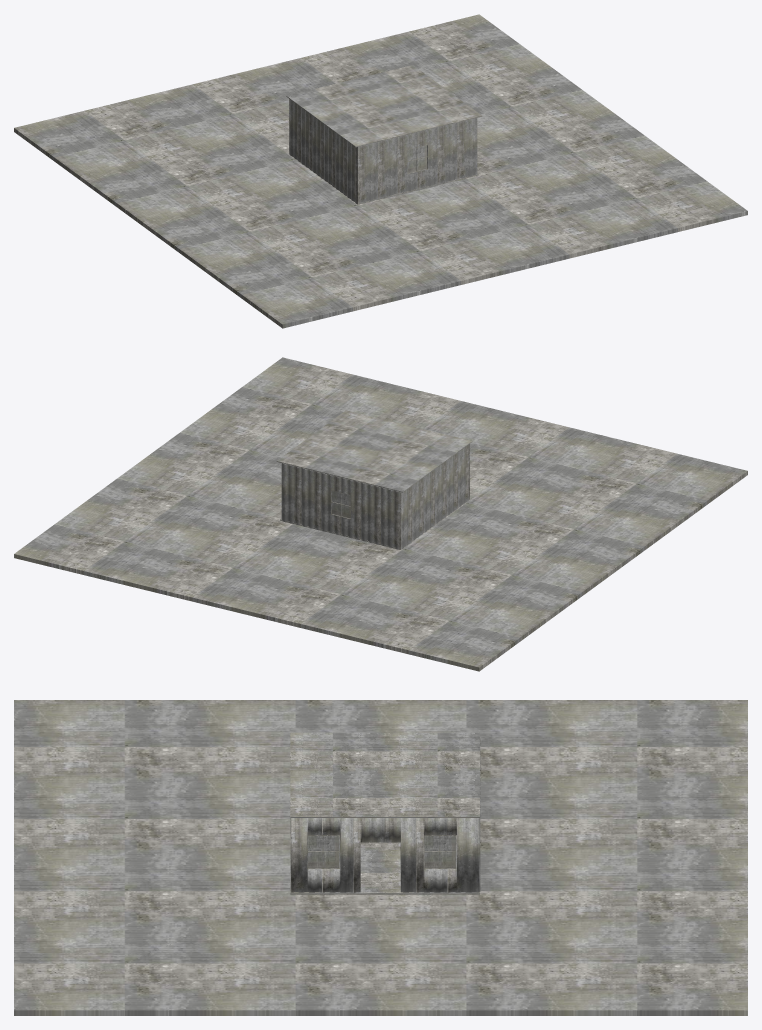
File: worldEntity2.fbx
The picture shows the model from 3 angles, top to bottom: view 1: azimuth 30°, elevation 25°; view 2: azimuth 150°, elevation 25°; view 3: azimuth 270°, elevation 25°; orthographic projection. The views are drawn at different scales.
Parts seen in each view (by area): view 1: Cube; view 2: Cube; view 3: Cube.
Part boxes in pixels (left/top/right/bottom): Cube: left=14, top=14, right=747, bottom=328; Cube: left=14, top=357, right=747, bottom=671; Cube: left=14, top=700, right=747, bottom=1015.
Bounding box in the file's own units: 2386 × 320 × 2386.
Materials: 1 (1 with a texture image).
